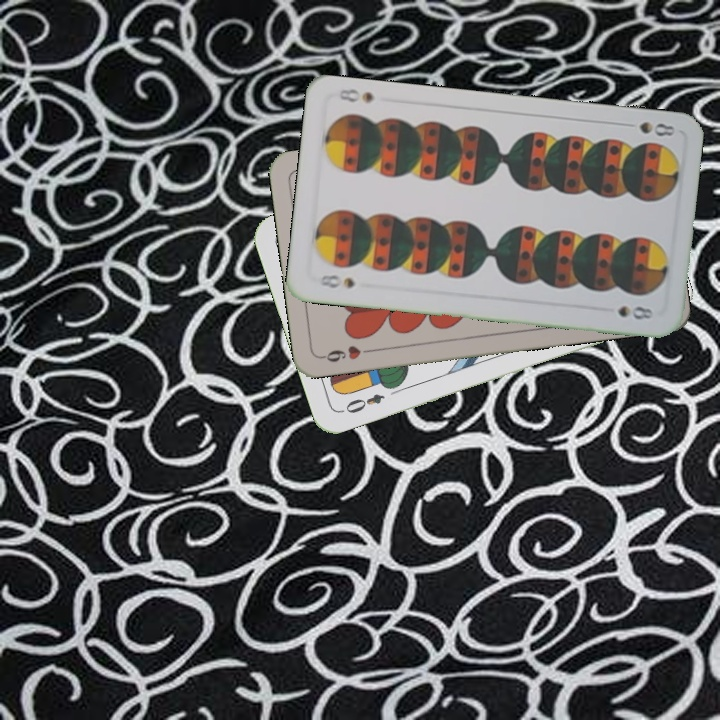EO: (337, 389, 387, 416)
H9: (318, 341, 377, 365)
S8: (619, 118, 678, 139), (316, 270, 358, 291)
